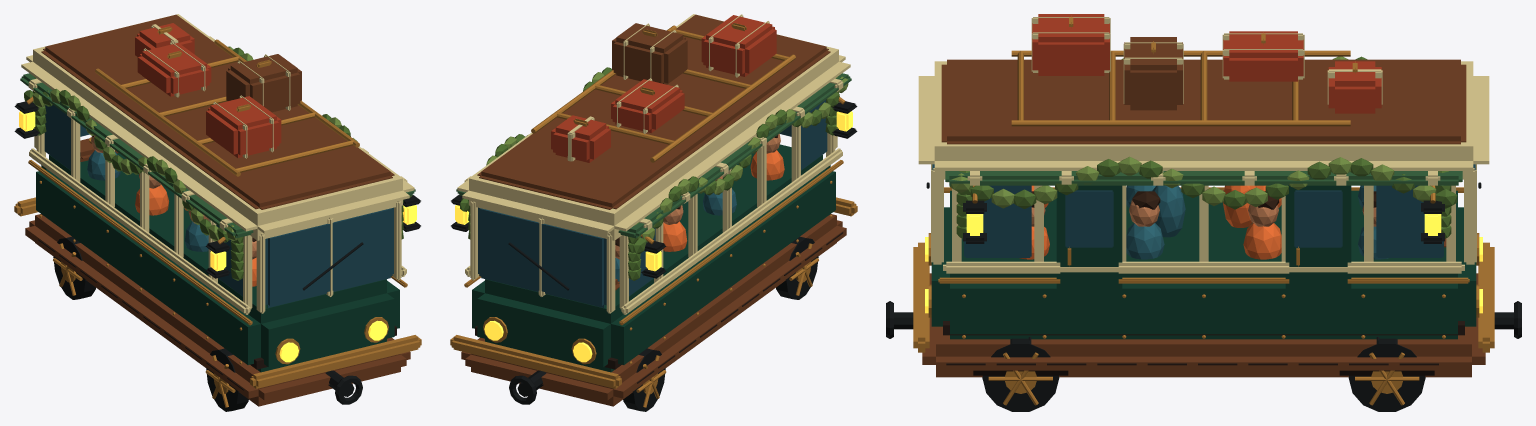
The model's file is tram.glb.
The picture shows the model from 3 angles, left to right: view 1: azimuth 30°, elevation 25°; view 2: azimuth 150°, elevation 25°; view 3: azimuth 270°, elevation 25°; orthographic projection. The views are drawn at different scales.
Visible parts, largest first — view 1: BodyMesh, RoofMesh, LuggageMesh, VinesMesh, PassengersMesh, LanternsMesh, Wheel_-1_-2Mesh, Wheel_-1_2Mesh, SatchelMesh; view 2: BodyMesh, RoofMesh, LuggageMesh, VinesMesh, PassengersMesh, SatchelMesh, LanternsMesh, Wheel_-1_2Mesh, Wheel_-1_-2Mesh; view 3: BodyMesh, RoofMesh, LuggageMesh, VinesMesh, Door_FrontMesh, Door_RearMesh, PassengersMesh, Wheel_1_-2Mesh, Wheel_1_2Mesh, SatchelMesh, LanternsMesh.
Part boxes in pixels (box(x1,y1,x2,y2)): BodyMesh: box(14, 36, 421, 406); RoofMesh: box(21, 14, 414, 240); LuggageMesh: box(95, 39, 359, 176); VinesMesh: box(24, 46, 412, 280); PassengersMesh: box(87, 135, 256, 286); LanternsMesh: box(14, 96, 420, 278); Wheel_-1_-2Mesh: box(205, 348, 248, 411); Wheel_-1_2Mesh: box(53, 236, 95, 299); SatchelMesh: box(135, 23, 194, 56); BodyMesh: box(450, 73, 857, 406); RoofMesh: box(457, 14, 850, 240); LuggageMesh: box(531, 14, 795, 162); VinesMesh: box(460, 67, 848, 280); PassengersMesh: box(615, 133, 784, 283); SatchelMesh: box(551, 115, 610, 162); LanternsMesh: box(451, 96, 857, 278); Wheel_-1_2Mesh: box(623, 348, 666, 411); Wheel_-1_-2Mesh: box(776, 236, 818, 299); BodyMesh: box(886, 164, 1521, 377); RoofMesh: box(918, 59, 1489, 178); LuggageMesh: box(1011, 14, 1350, 126); VinesMesh: box(949, 56, 1457, 238); Door_FrontMesh: box(1285, 185, 1351, 314); Door_RearMesh: box(1056, 185, 1122, 314); PassengersMesh: box(1019, 185, 1388, 259); Wheel_1_-2Mesh: box(982, 338, 1059, 411); Wheel_1_2Mesh: box(1348, 338, 1425, 411); SatchelMesh: box(1327, 61, 1382, 113); LanternsMesh: box(963, 185, 1444, 243).
Size of the model in its own units: 3.14 by 4.1 by 6.94.
